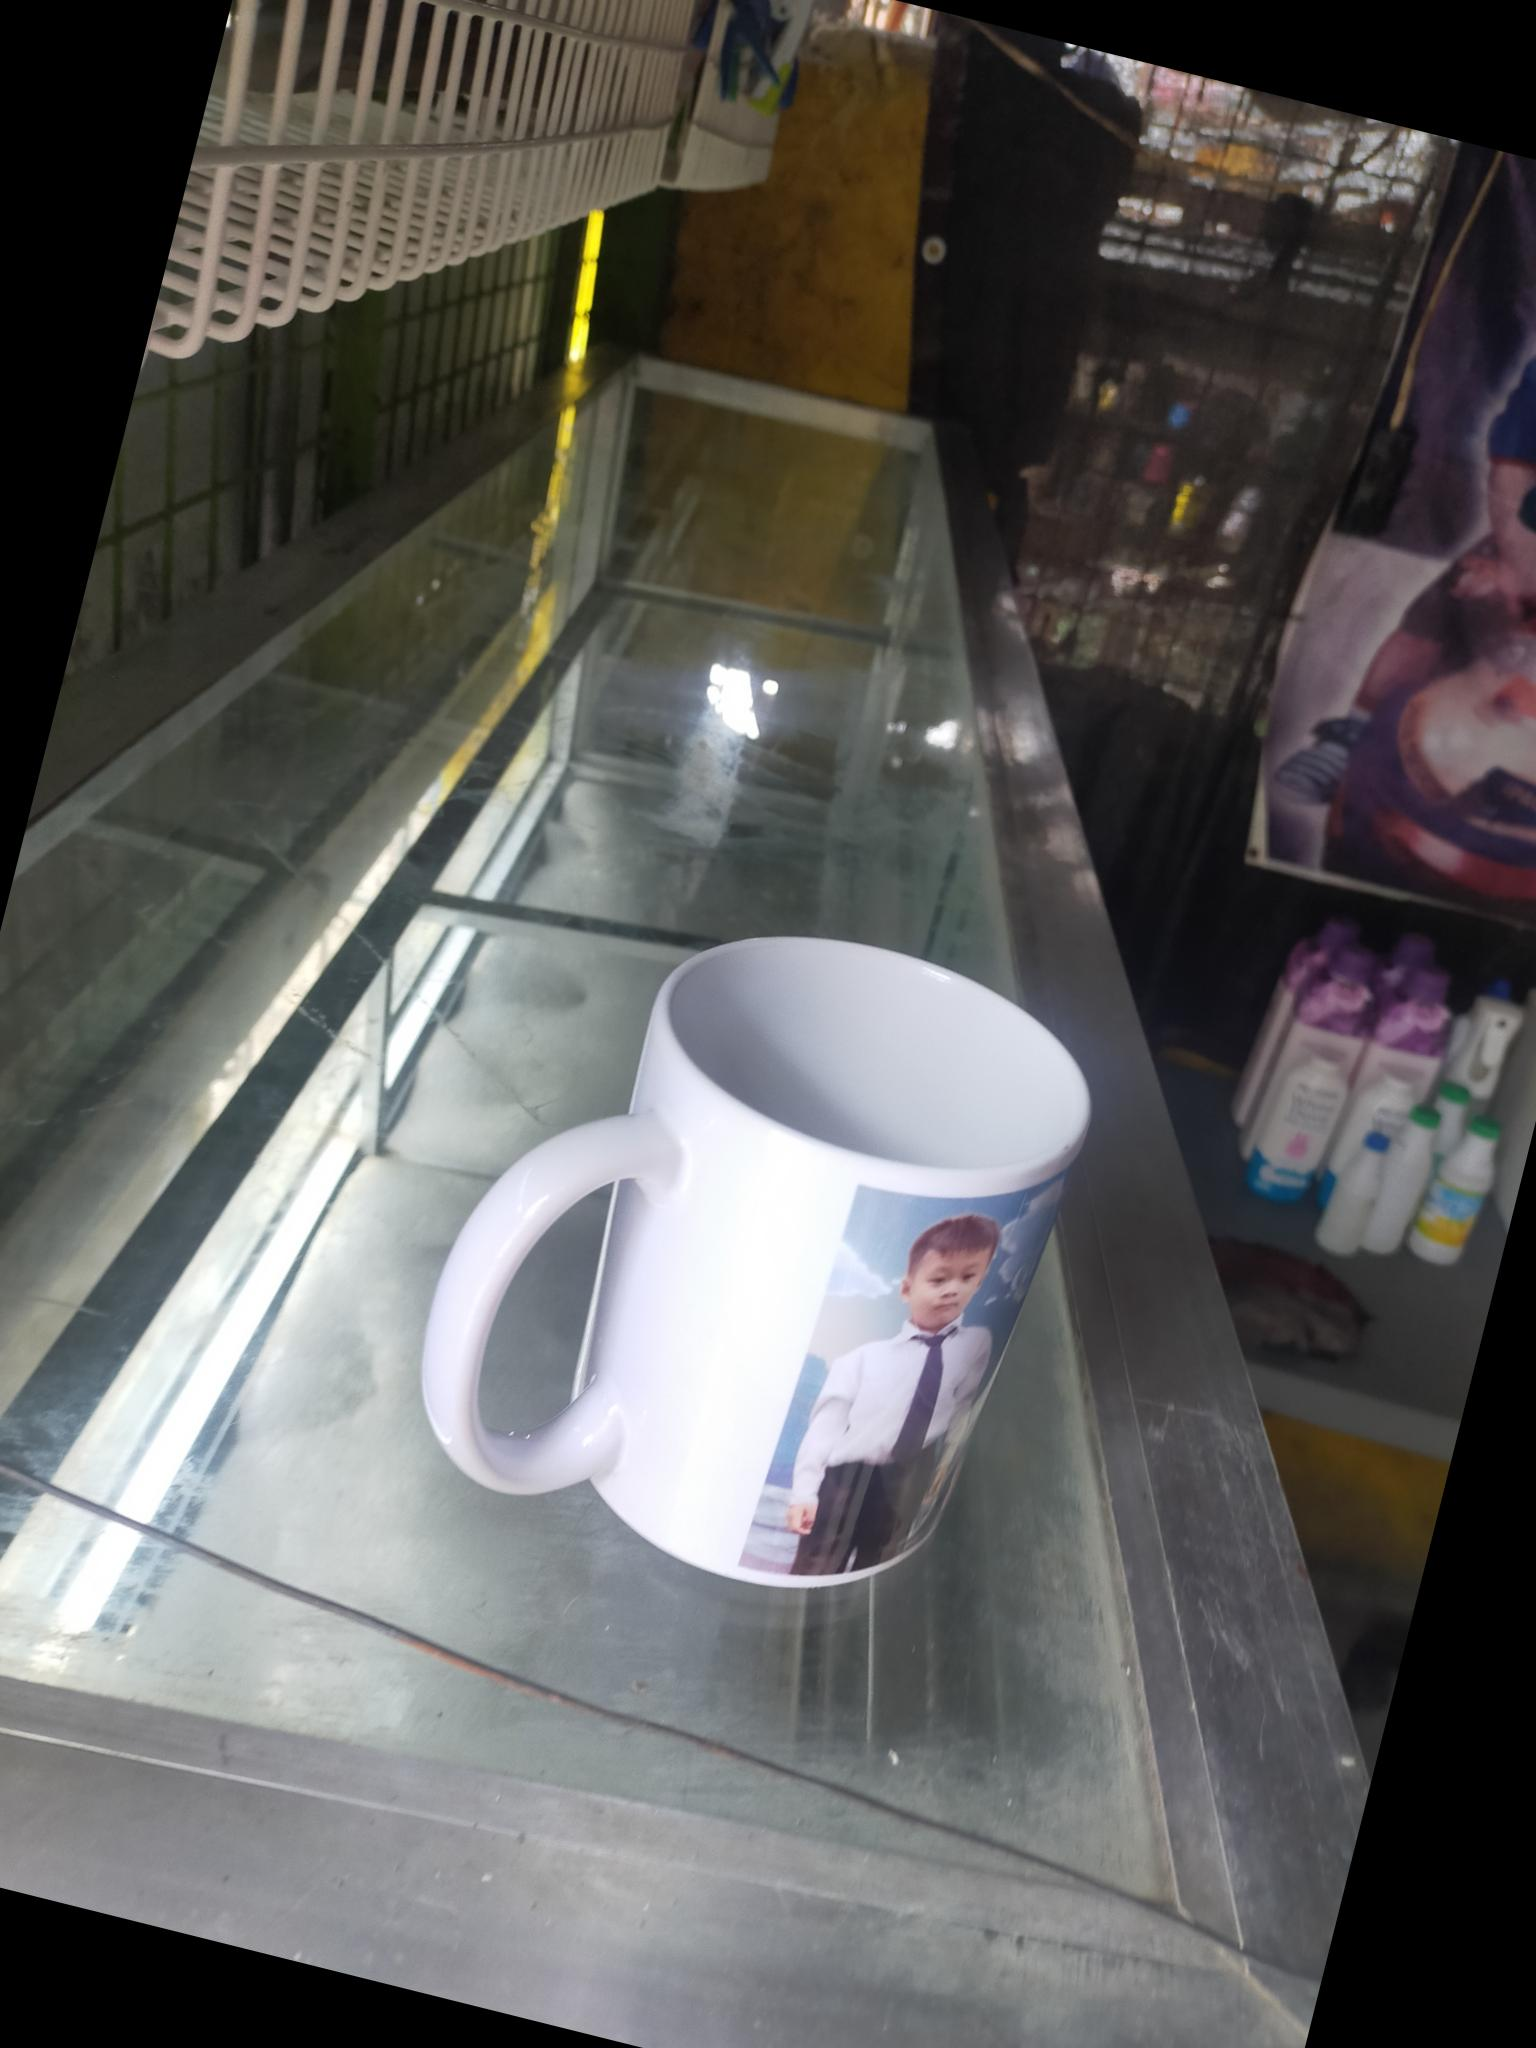Coffee Mug: (390, 866, 1121, 1635)
